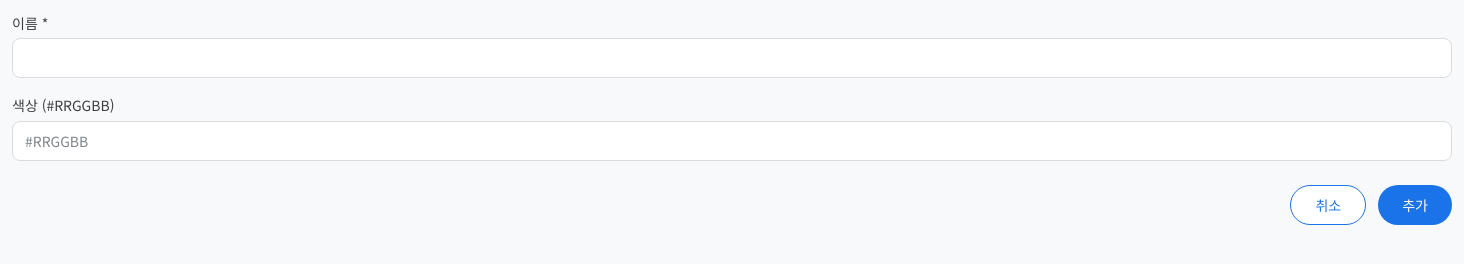
Test: CategoryForm › 이름 필드가 필수임을 검증한다
Click the button "추가" at x=1415, y=205, box [1378,185,1452,225]
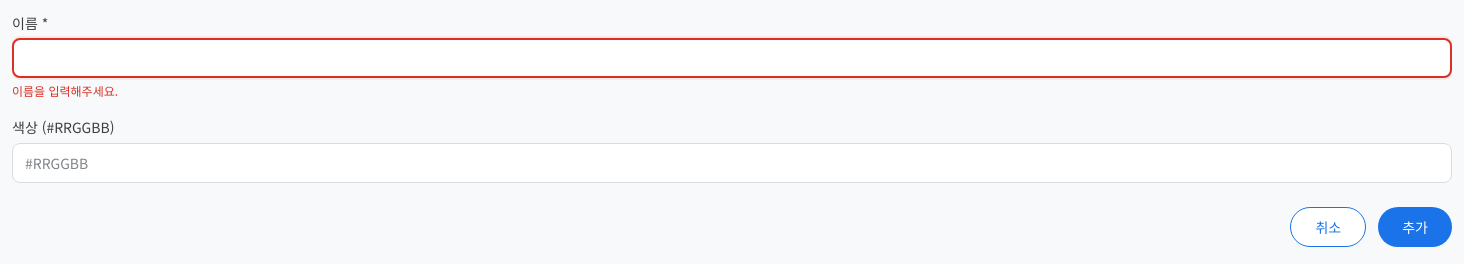
Expected: the text "이름을 입력해주세요." is shown, [12,82,118,99]
